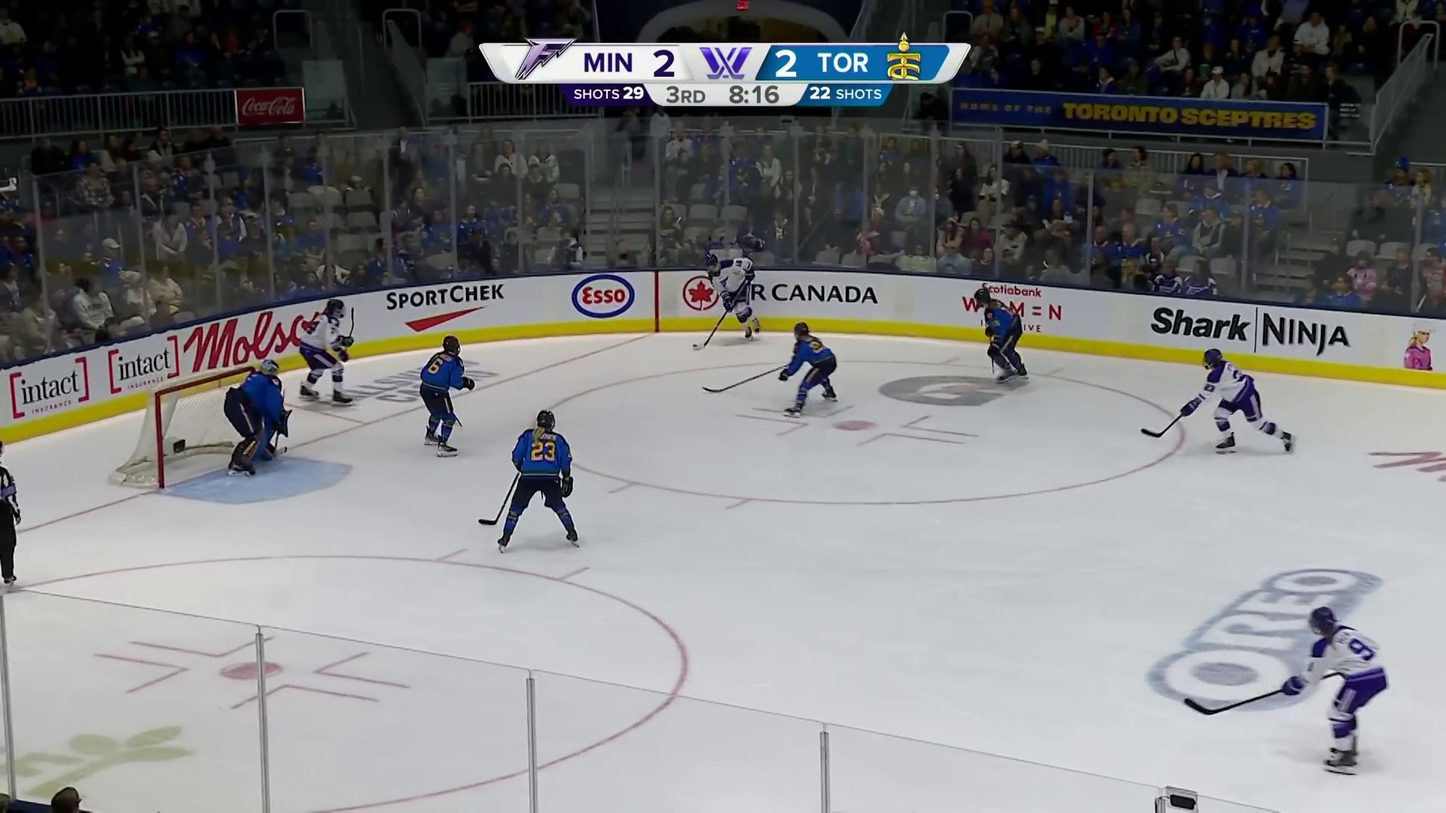goaltender: (220, 358, 293, 479)
player: (1278, 605, 1391, 774), (1176, 347, 1296, 453), (495, 408, 579, 553), (413, 332, 478, 457), (293, 296, 355, 404), (774, 319, 841, 418), (970, 285, 1031, 385), (703, 251, 763, 341)
puck: (689, 341, 702, 351)
